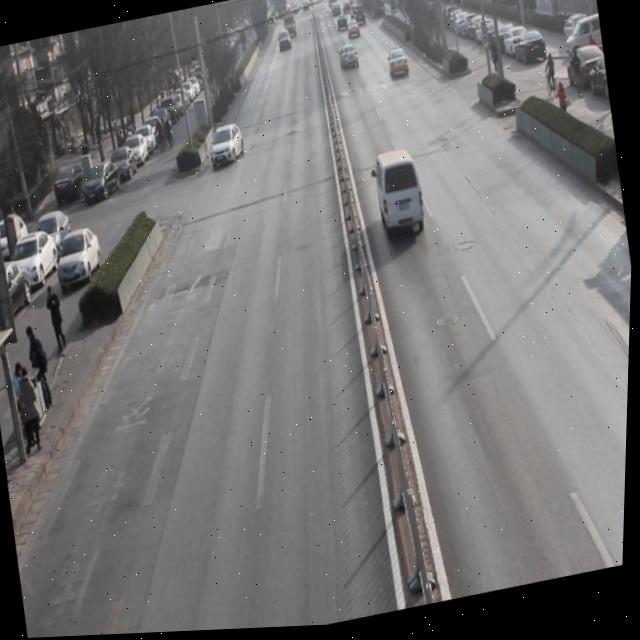car: (208, 120, 250, 170), (386, 46, 414, 86), (338, 45, 364, 79)
truck: (367, 148, 433, 249)
